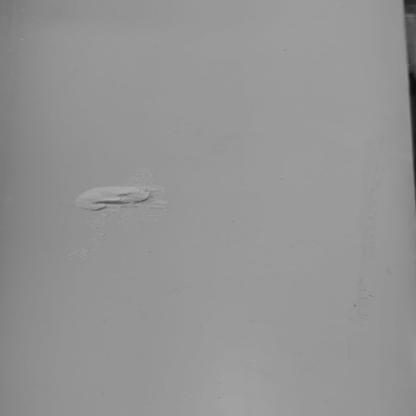sunshang: (67, 184, 167, 217)
